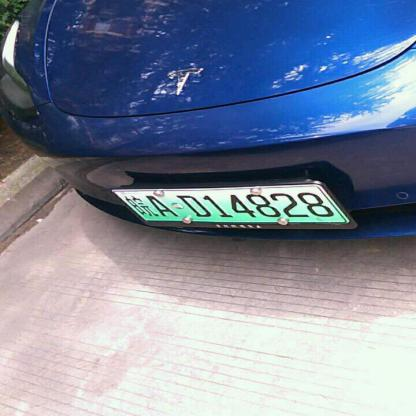lp: (112, 185, 346, 222)
